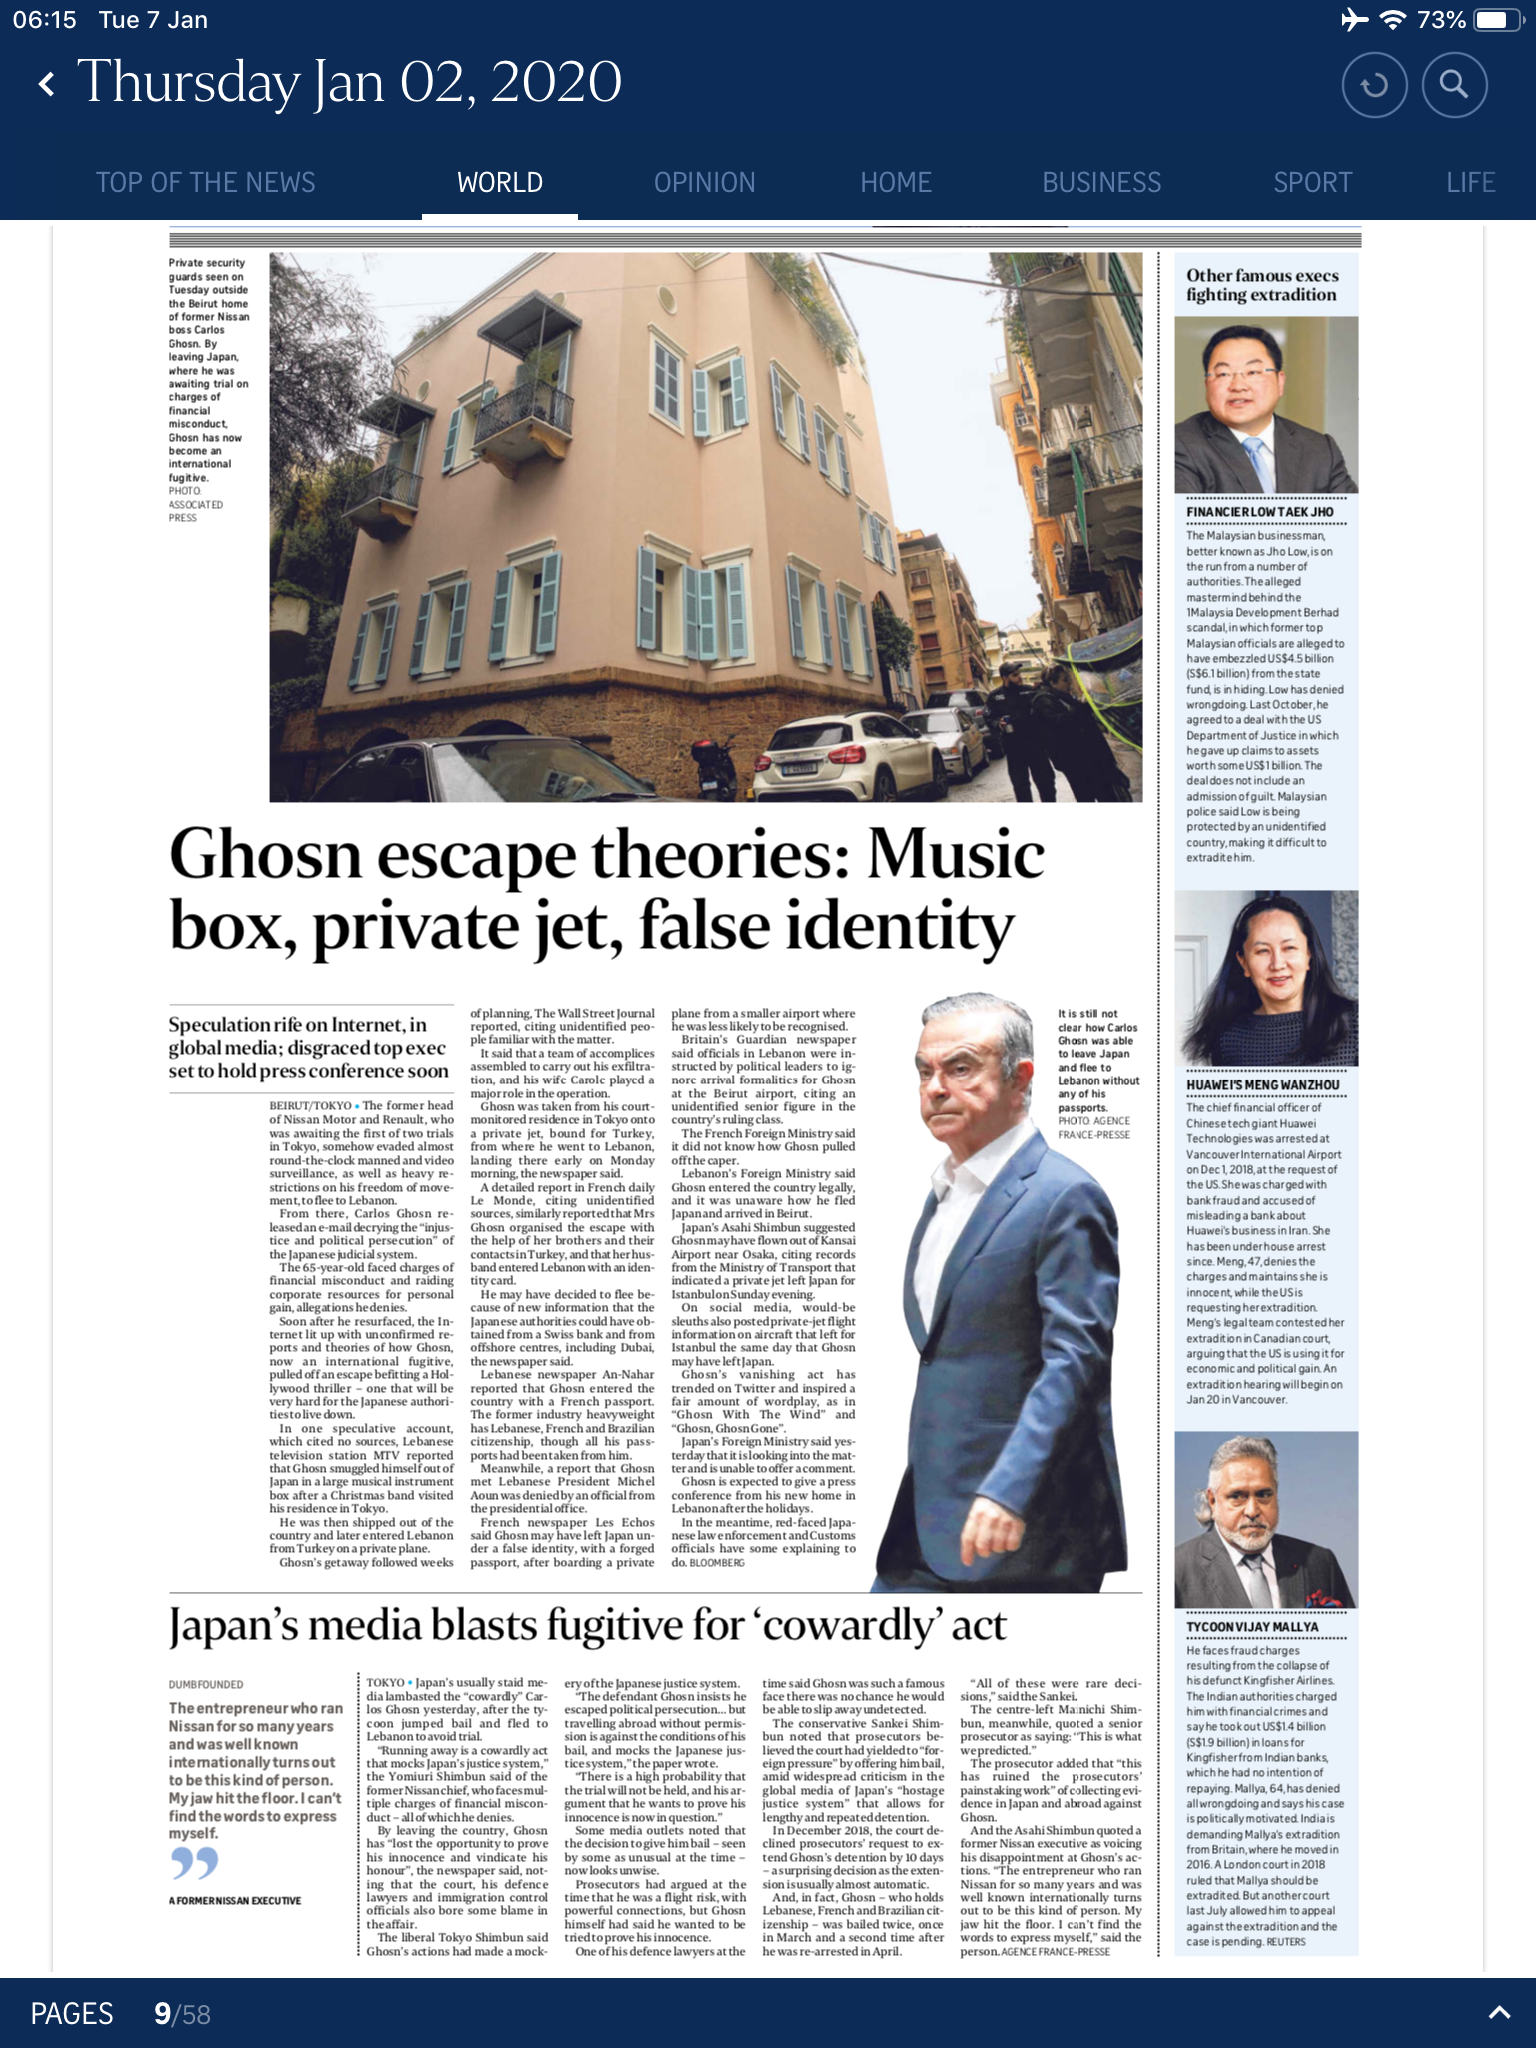Headline: (158, 811, 1058, 971), (163, 1598, 1012, 1655), (1176, 255, 1355, 308)
Illustration: (165, 253, 255, 526)
Image: (266, 248, 1142, 797), (871, 987, 1141, 1593), (1175, 1434, 1359, 1613), (1176, 890, 1362, 1068), (1175, 318, 1362, 493)
Text: (466, 997, 665, 1577), (673, 998, 865, 1572), (260, 1089, 466, 1580), (1178, 495, 1357, 871), (353, 1666, 561, 1969), (753, 1663, 960, 1959), (1178, 1072, 1355, 1414), (1179, 1609, 1354, 1953), (954, 1666, 1154, 1964), (561, 1664, 753, 1963), (163, 1671, 347, 1913), (163, 1009, 458, 1084)
